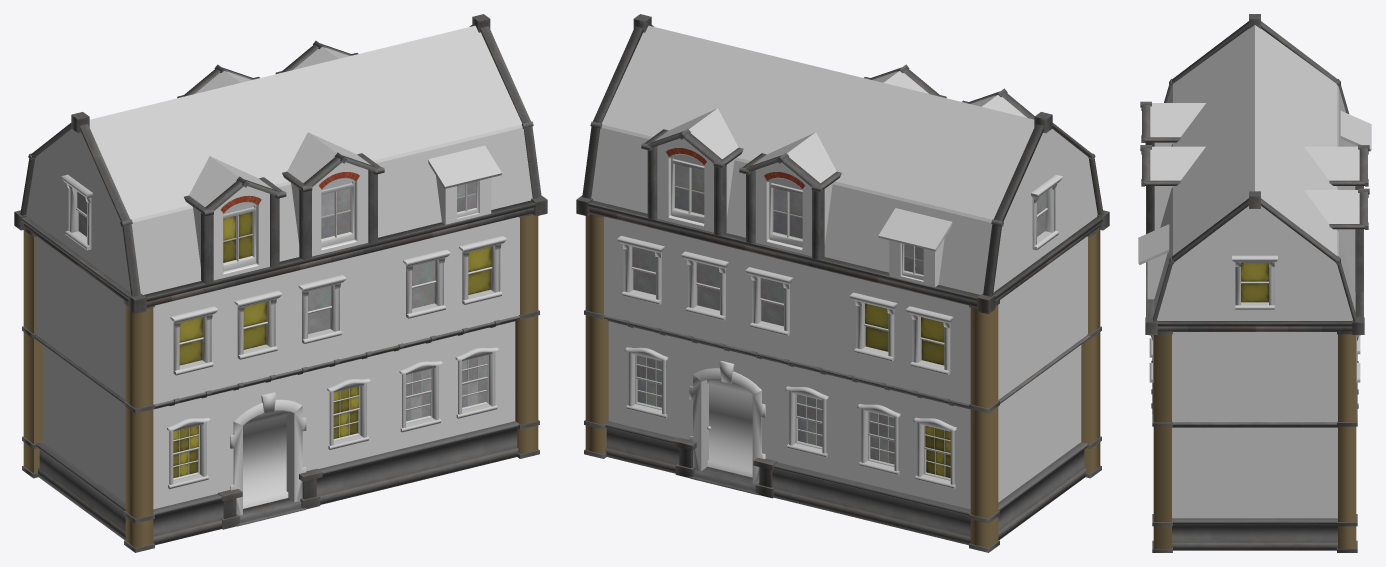
Rendered from Building_08.fbx.
The picture shows the model from 3 angles, left to right: view 1: azimuth 30°, elevation 25°; view 2: azimuth 150°, elevation 25°; view 3: azimuth 270°, elevation 25°; orthographic projection. The views are drawn at different scales.
Parts seen in each view (by area): view 1: Wall_01.006, Roof_01.010, Wall_03.006, Wall_02.005, Roof_01.011; view 2: Wall_02.005, Roof_01.011, Wall_03.006, Wall_01.006, Roof_01.010; view 3: Wall_03.007, Roof_01.010, Roof_01.011, Wall_01.006, Wall_02.005.
Part boxes in pixels (x1,y1,x2,y2): Wall_01.006: [124, 213, 539, 552]; Roof_01.010: [71, 14, 547, 314]; Wall_03.006: [21, 129, 130, 540]; Wall_02.005: [22, 228, 42, 478]; Roof_01.011: [14, 25, 472, 230]; Wall_02.005: [584, 213, 999, 552]; Roof_01.011: [576, 25, 1043, 313]; Wall_03.006: [993, 129, 1102, 540]; Wall_01.006: [1081, 228, 1101, 478]; Roof_01.010: [633, 14, 1109, 230]; Wall_03.007: [1157, 206, 1352, 550]; Roof_01.010: [1138, 14, 1260, 334]; Roof_01.011: [1255, 21, 1371, 334]; Wall_01.006: [1149, 331, 1172, 552]; Wall_02.005: [1337, 331, 1360, 552].
Size of what is drawn, in the model's own units: 12.92 by 11.79 by 6.96.
